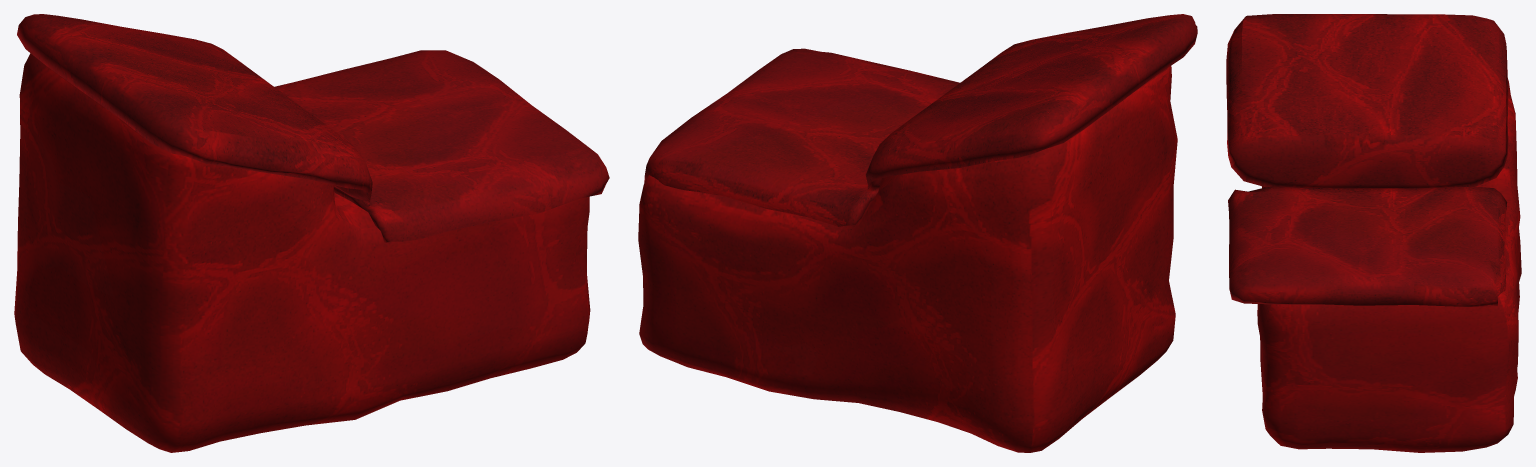
File: tile2.fbx
3 renders of one model, left to right at view 1: azimuth 30°, elevation 25°; view 2: azimuth 150°, elevation 25°; view 3: azimuth 270°, elevation 25°, orthographic. The views are drawn at different scales.
Visible parts, largest first — view 1: PLATAFORMLADOBAIXO1, PLATAFORMLADOCIMA1; view 2: PLATAFORMLADOBAIXO1, PLATAFORMLADOCIMA1; view 3: PLATAFORMLADOCIMA1, PLATAFORMLADOBAIXO1.
Part boxes in pixels (bbox=[...]): PLATAFORMLADOBAIXO1: bbox=[14, 53, 590, 452]; PLATAFORMLADOCIMA1: bbox=[17, 14, 609, 242]; PLATAFORMLADOBAIXO1: bbox=[638, 66, 1177, 452]; PLATAFORMLADOCIMA1: bbox=[644, 14, 1197, 226]; PLATAFORMLADOCIMA1: bbox=[1226, 14, 1508, 306]; PLATAFORMLADOBAIXO1: bbox=[1257, 79, 1521, 452].
Bounding box in the file's own units: 494 × 379 × 359.
